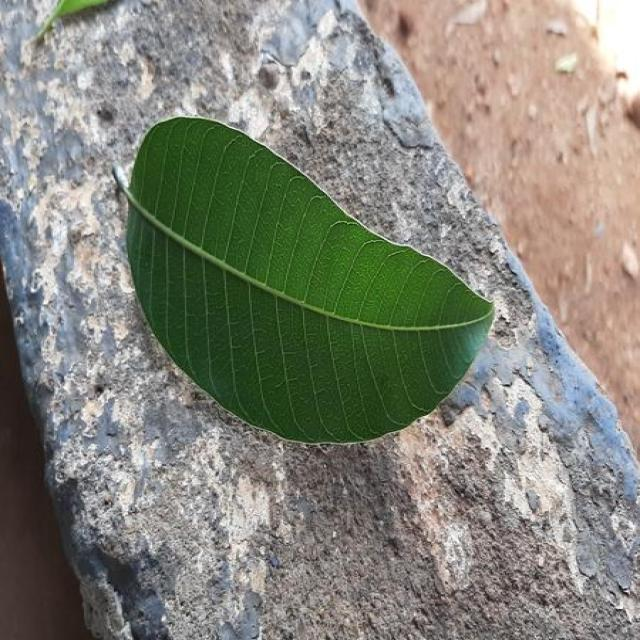mango: (123, 118, 493, 442)
